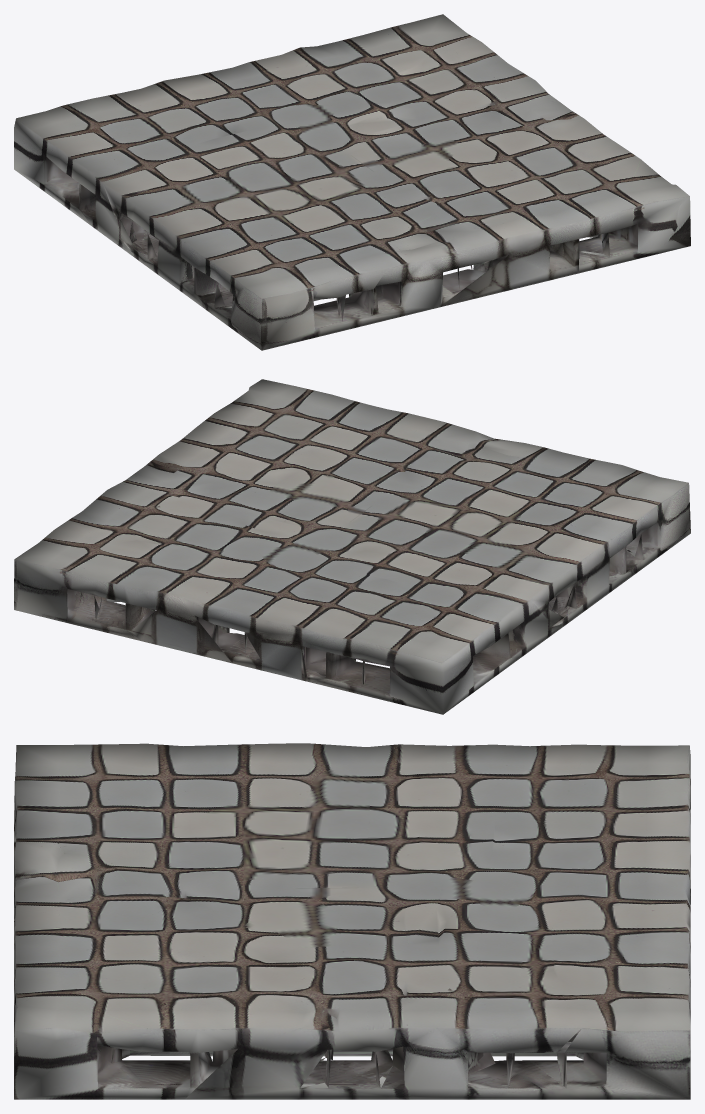
The model's file is road_straight.glb.
3 renders of one model, top to bottom at view 1: azimuth 30°, elevation 25°; view 2: azimuth 150°, elevation 25°; view 3: azimuth 270°, elevation 25°, orthographic. The views are drawn at different scales.
Visible parts, largest first — view 1: Mesh_0; view 2: Mesh_0; view 3: Mesh_0.
Part boxes in pixels (x1,y1,x2,y2): Mesh_0: (14, 14, 690, 350); Mesh_0: (14, 379, 690, 714); Mesh_0: (14, 743, 690, 1099).
Size of the model in its own units: 0.5017 by 0.06 by 0.5013.
1 material, 1 textured.
